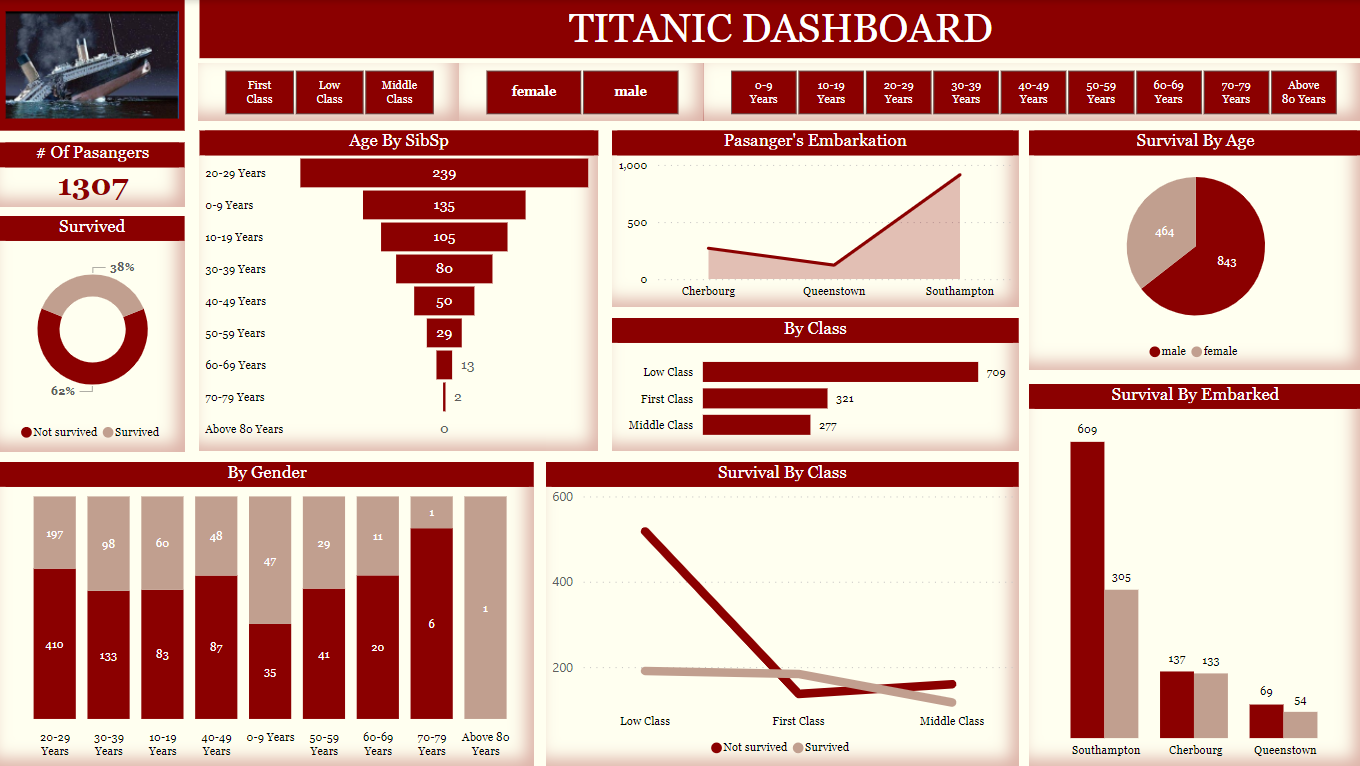

The dashboard page shown, as its layout file describes it:
{"tool":"powerbi","page":{"name":"Page 1","canvas":[1280,720],"ordinal":0},"visuals":[{"type":"shape","box":[732.4,420.5,548.1,299.3],"z":0},{"type":"donutChart","fields":{"Y":["CountNonNull(train.Index)"],"Category":["train.Survival"]},"box":[0,297.7,187.4,204.8],"z":1000},{"type":"card","fields":{"Values":["train.%Survive"]},"box":[31.5,365.4,132.3,77.2],"z":2000},{"type":"donutChart","fields":{"Y":["CountNonNull(train.Index)"],"Category":["train.Survival"]},"box":[0,518.5,196.8,201.5],"z":3000},{"type":"card","fields":{"Values":["train.% Not_Survive"]},"box":[37.8,581.2,127.6,75.6],"z":4000},{"type":"card","fields":{"Values":["CountNonNull(train.Index)"]},"box":[23.6,189,141.8,78.8],"z":5000},{"type":"shape","box":[187.4,108.7,225.2,300.8],"z":6000},{"type":"shape","box":[734,111.8,535.5,299.3],"z":7000},{"type":"shape","box":[187.4,420.5,535.5,299.3],"z":8000},{"type":"clusteredColumnChart","fields":{"Y":["CountNonNull(train.Index)"],"Category":["train.Embarked"],"Series":["train.Survival"]},"box":[146.5,441,620.6,278.8],"z":10000},{"type":"shape","box":[423.7,110.3,299.3,300.8],"z":11000},{"type":"hundredPercentStackedColumnChart","fields":{"Category":["train.New_Age"],"Y":["CountNonNull(train.Index)"],"Series":["train.Survival"]},"box":[732.4,136.9,535.5,274.1],"z":12000},{"type":"lineChart","fields":{"Category":["train.Custom"],"Y":["CountNonNull(train.Index)"],"Series":["train.Survival"]},"box":[723,431.6,557.6,281.9],"z":13000},{"type":"image","box":[0,0,173.3,171.7],"z":14000},{"type":"textbox","box":[423.7,0,534,64.6],"z":15000},{"type":"barChart","fields":{"Category":["train.Custom"],"Y":["CountNonNull(train.Index)"]},"box":[412.7,92.9,310.3,335.5],"z":16000},{"type":"textbox","box":[305.6,415.8,299.3,31.5],"z":17000},{"type":"textbox","box":[521.4,88.2,310.3,56.7],"z":18000},{"type":"pieChart","fields":{"Category":["train.Sex"],"Y":["CountNonNull(train.Index)"]},"box":[115,116.6,368.6,288.2],"z":19000},{"type":"textbox","box":[247.3,105.5,299.3,31.5],"z":20000},{"type":"textbox","box":[15.8,165.4,299.3,31.5],"z":21000},{"type":"textbox","box":[45.7,297.7,141.8,39.4],"z":22000},{"type":"textbox","box":[880.5,105.6,299.3,31.5],"z":23000},{"type":"textbox","box":[28.4,502.5,159.1,47.3],"z":24000},{"type":"shape","box":[23.6,196.9,149.6,86.6],"z":25000},{"type":"textbox","box":[916.7,415.8,299.3,31.5],"z":26000},{"type":"shape","box":[765.3,440.4,492,25],"z":27000},{"type":"shape","box":[207.7,440.4,498.2,25],"z":28000},{"type":"shape","box":[187.4,52,1093.1,47.3],"z":30000},{"type":"shape","box":[201.6,124.4,195.3,25.2],"z":31000},{"type":"slicer","fields":{"Values":["train.New_Age"]},"box":[662.3,46.6,617.7,56.7],"z":32000},{"type":"shape","box":[456.8,124.4,252,25.2],"z":33000},{"type":"slicer","fields":{"Values":["train.Pclass"]},"box":[165.4,47.3,294.5,55.1],"z":34000},{"type":"shape","box":[765.5,124.4,491.4,25.2],"z":35000},{"type":"slicer","fields":{"Values":["train.Sex"]},"box":[452.9,45.3,221.8,56.2],"z":36000}]}

Visuals, with their boxes in screenshot pixels (x1, y1, x2, y2), scaled from the page's 1280x720 canvas onto the 1360x766 screenshot:
shape: x1=778 y1=447 x2=1359 y2=765
donutChart - CountNonNull(train.Index) x train.Survival: x1=0 y1=317 x2=199 y2=535
card - train.%Survive: x1=33 y1=389 x2=174 y2=471
donutChart - CountNonNull(train.Index) x train.Survival: x1=0 y1=552 x2=209 y2=765
card - train.% Not_Survive: x1=40 y1=618 x2=176 y2=699
card - CountNonNull(train.Index): x1=25 y1=201 x2=176 y2=285
shape: x1=199 y1=116 x2=438 y2=436
shape: x1=780 y1=119 x2=1349 y2=437
shape: x1=199 y1=447 x2=768 y2=765
clusteredColumnChart - CountNonNull(train.Index) x train.Embarked: x1=156 y1=469 x2=815 y2=765
shape: x1=450 y1=117 x2=768 y2=437
hundredPercentStackedColumnChart - train.New_Age x CountNonNull(train.Index): x1=778 y1=146 x2=1347 y2=437
lineChart - train.Custom x CountNonNull(train.Index): x1=768 y1=459 x2=1359 y2=759
image: x1=0 y1=0 x2=184 y2=183
textbox: x1=450 y1=0 x2=1018 y2=69
barChart - train.Custom x CountNonNull(train.Index): x1=438 y1=99 x2=768 y2=456
textbox: x1=325 y1=442 x2=643 y2=476
textbox: x1=554 y1=94 x2=884 y2=154
pieChart - train.Sex x CountNonNull(train.Index): x1=122 y1=124 x2=514 y2=431
textbox: x1=263 y1=112 x2=581 y2=146
textbox: x1=17 y1=176 x2=335 y2=209
textbox: x1=49 y1=317 x2=199 y2=359
textbox: x1=936 y1=112 x2=1254 y2=146
textbox: x1=30 y1=535 x2=199 y2=585
shape: x1=25 y1=209 x2=184 y2=302
textbox: x1=974 y1=442 x2=1292 y2=476
shape: x1=813 y1=469 x2=1336 y2=495
shape: x1=221 y1=469 x2=750 y2=495
shape: x1=199 y1=55 x2=1359 y2=106
shape: x1=214 y1=132 x2=422 y2=159
slicer - train.New_Age: x1=704 y1=50 x2=1359 y2=110
shape: x1=485 y1=132 x2=753 y2=159
slicer - train.Pclass: x1=176 y1=50 x2=489 y2=109
shape: x1=813 y1=132 x2=1335 y2=159
slicer - train.Sex: x1=481 y1=48 x2=717 y2=108
